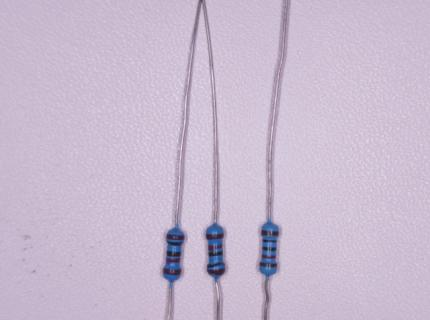Black band: (166, 250, 181, 256), (167, 240, 184, 245), (208, 251, 223, 256), (262, 246, 277, 251), (207, 263, 225, 267), (262, 240, 277, 243)
Brown band: (163, 267, 182, 275), (166, 233, 185, 240), (207, 268, 226, 275), (206, 233, 224, 240), (261, 230, 279, 236), (259, 262, 277, 267)
Red band: (209, 244, 222, 250), (166, 258, 180, 263), (262, 255, 276, 259)
